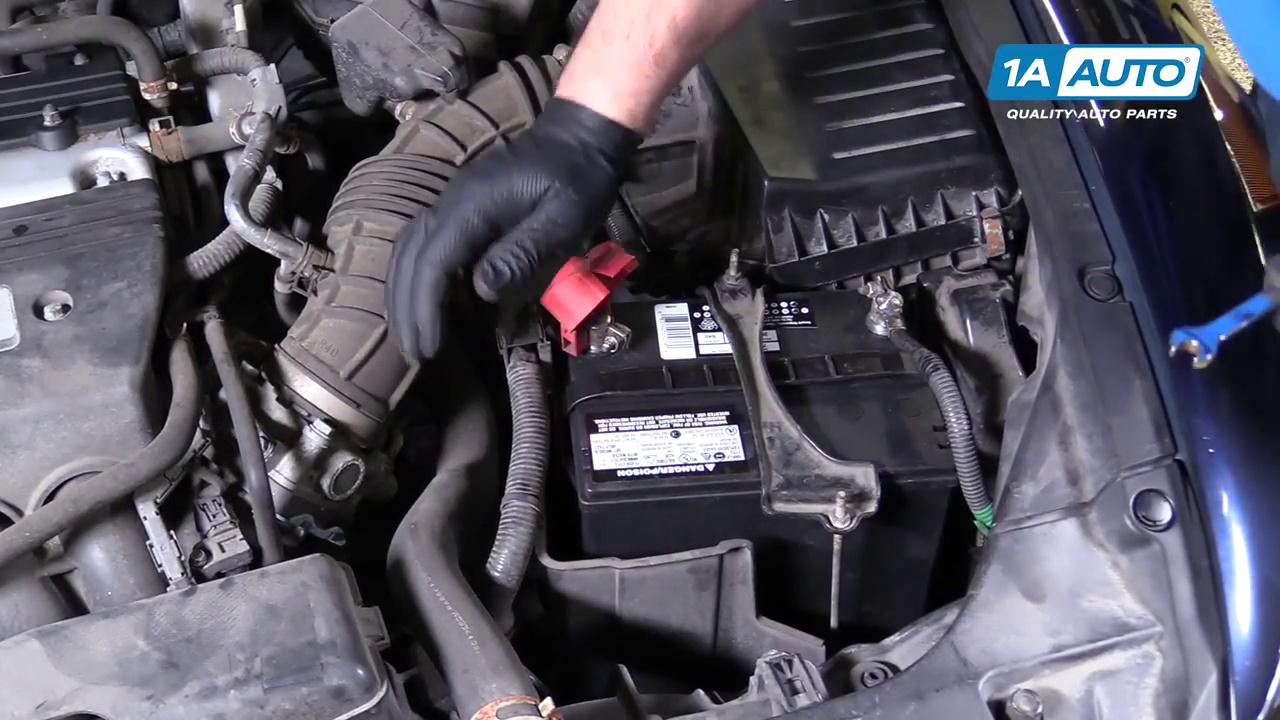battery: (544, 248, 963, 491)
neg_connected: (839, 269, 943, 373)
pos_connected: (508, 223, 650, 374)
pos_touched: (443, 173, 643, 359)
